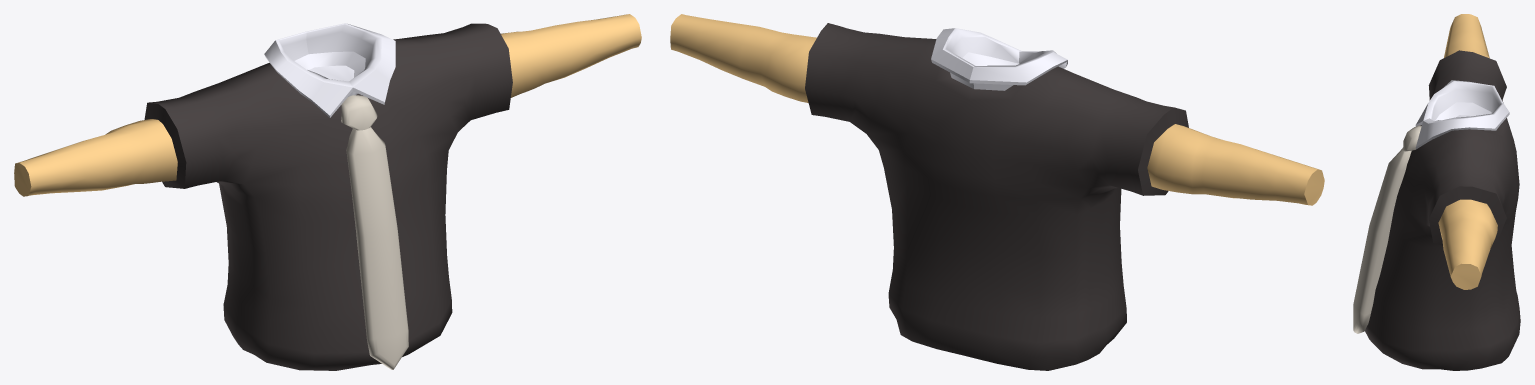
The model's file is Torso_02_03.fbx.
3 renders of one model, left to right at view 1: azimuth 30°, elevation 25°; view 2: azimuth 150°, elevation 25°; view 3: azimuth 270°, elevation 25°, orthographic. The views are drawn at different scales.
Visible parts, largest first — view 1: Torso_02_03; view 2: Torso_02_03; view 3: Torso_02_03.
Part boxes in pixels (x1=…): Torso_02_03: x1=14, y1=14, x2=641, y2=370; Torso_02_03: x1=670, y1=14, x2=1324, y2=370; Torso_02_03: x1=1353, y1=14, x2=1520, y2=370.
Bounding box in the file's own units: 118 × 52.8 × 33.36.
